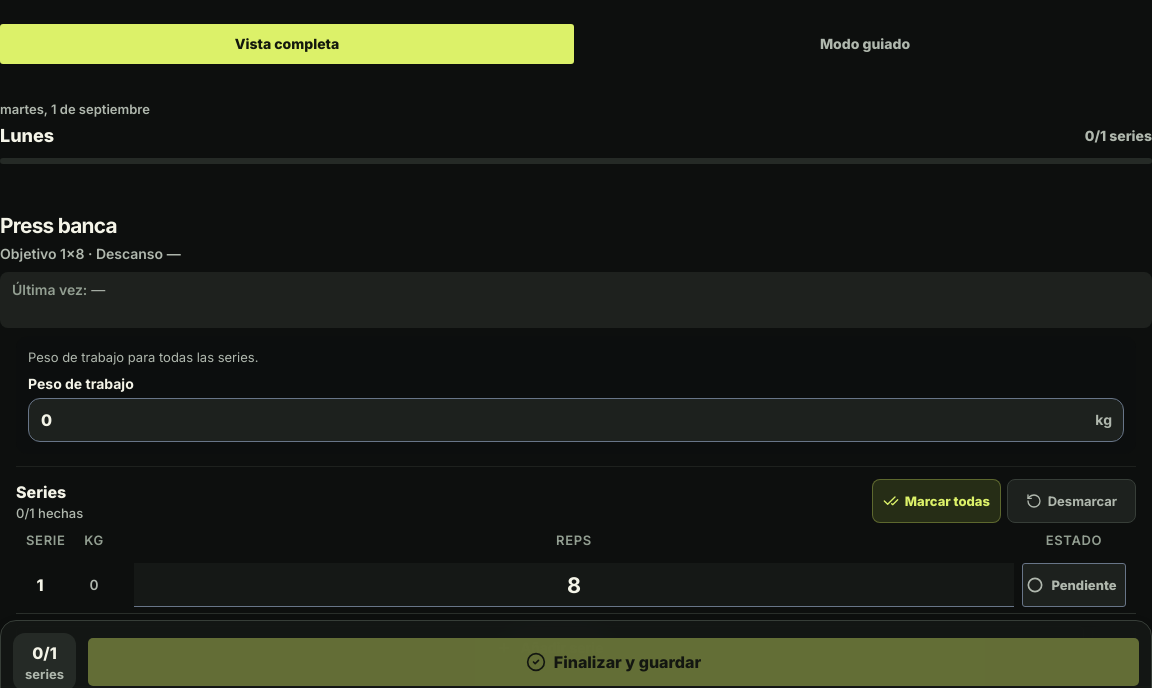
Test: persistencia del entrenamiento ante fallos y respuestas tardías › avisa del fallo de almacenamiento local y permite reintentar sin perder la edición
The image size is (1152, 688).
Step 1. Replace the text in the field named "Repeticiones de la serie 1 de Press banca" with "10" → (574, 585), box [134, 563, 1014, 607]
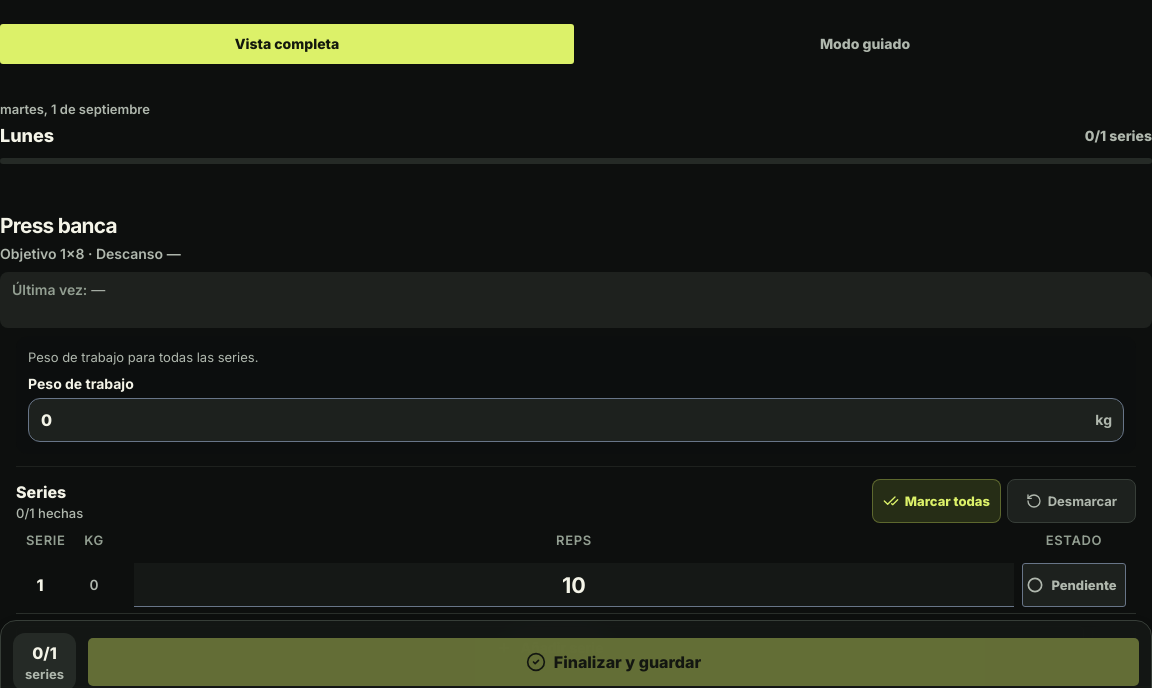
Step 2. Click the button with aria-label "Marcar como hecha la serie 1 de " → (1074, 585), box [1022, 563, 1126, 607]
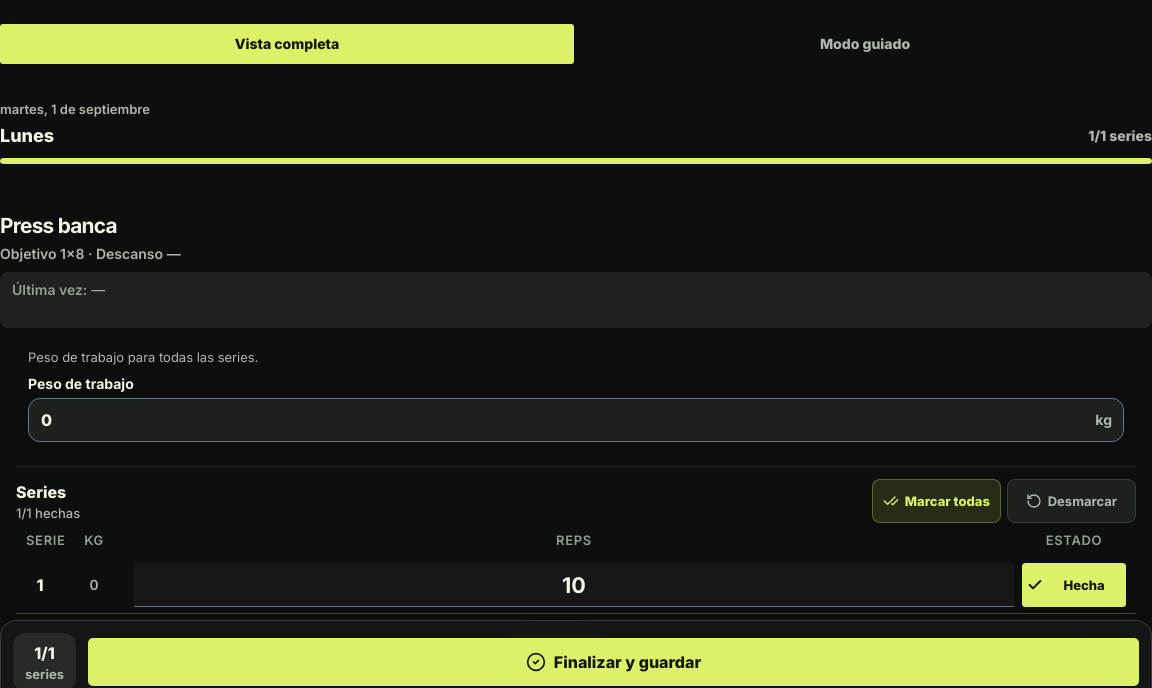
Step 3. Replace the text in the field named "Repeticiones de la serie 1 de Press banca" with "12" → (574, 585), box [134, 563, 1014, 607]
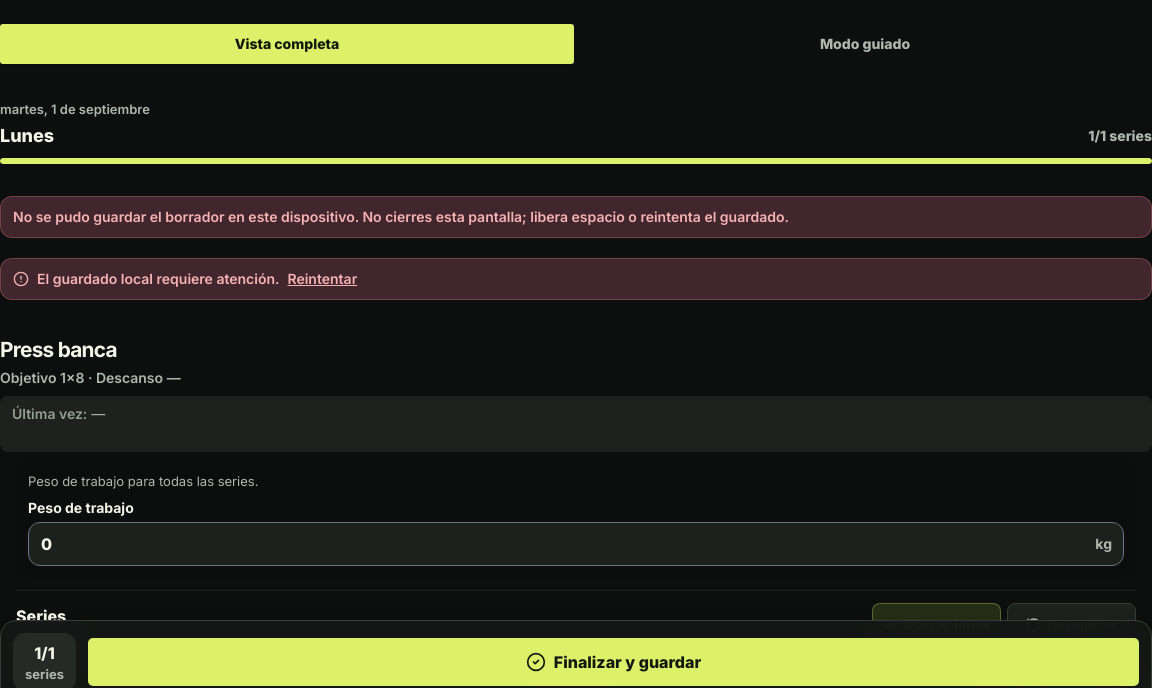
Expected: the text "No se pudo guardar el borrador en este dispositivo" is shown, [13, 208, 789, 225]
Step 4. Click the button "Reintentar" → (322, 279), box [288, 269, 357, 289]
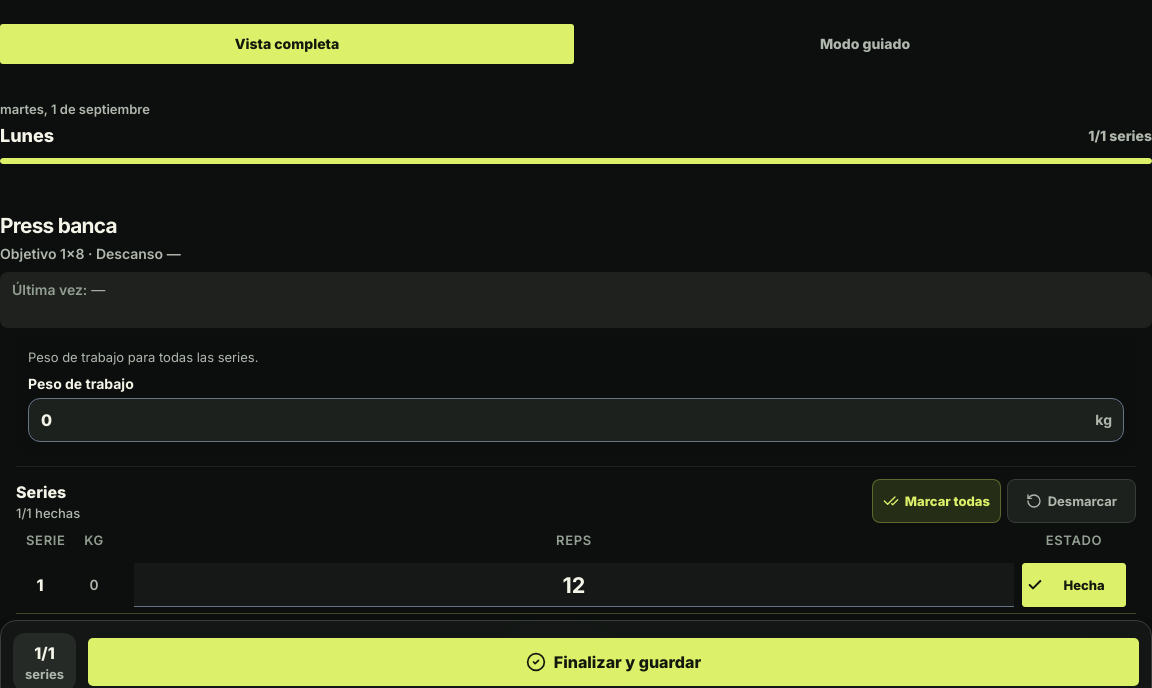
Expected: the text "No se pudo guardar el borrador en este dispositivo" is gone
